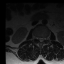CCS_stenosis: (40, 35, 41, 44)
LFS_normal: (44, 35, 46, 41)
LLS_normal: (42, 35, 44, 43)
RFS_normal: (36, 35, 38, 41)
RLS_normal: (38, 35, 39, 42)
